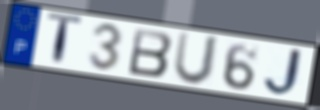3: (87, 22, 125, 73)
6: (222, 42, 260, 92)
B: (126, 26, 175, 79)
J: (262, 47, 308, 98)
T: (45, 11, 85, 70)
U: (171, 30, 222, 88)
